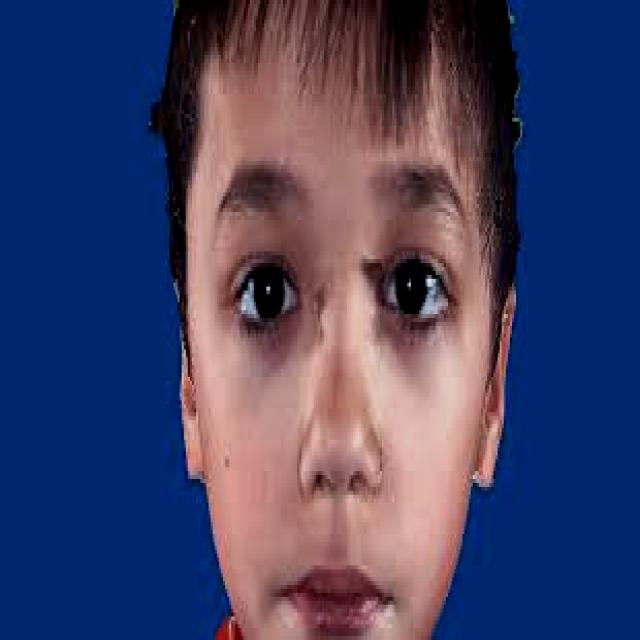normal_face: (160, 0, 508, 640)
